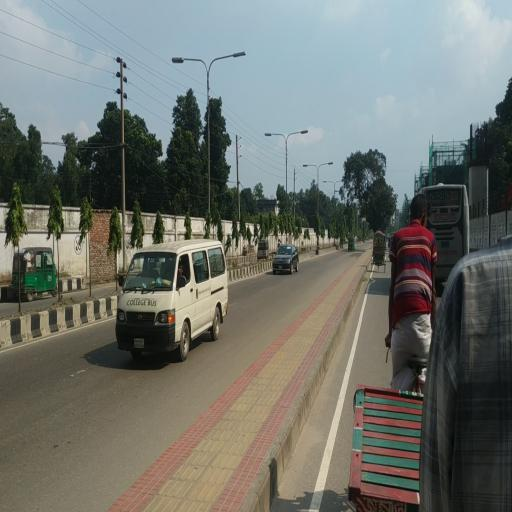bus: (424, 183, 472, 281)
car: (273, 243, 300, 274)
rickshaw: (372, 230, 388, 274)
three wheelers (CNG): (12, 246, 60, 301), (258, 238, 270, 260), (349, 237, 355, 252)
van: (115, 238, 230, 355)
wheelbarrow: (348, 383, 421, 507)
